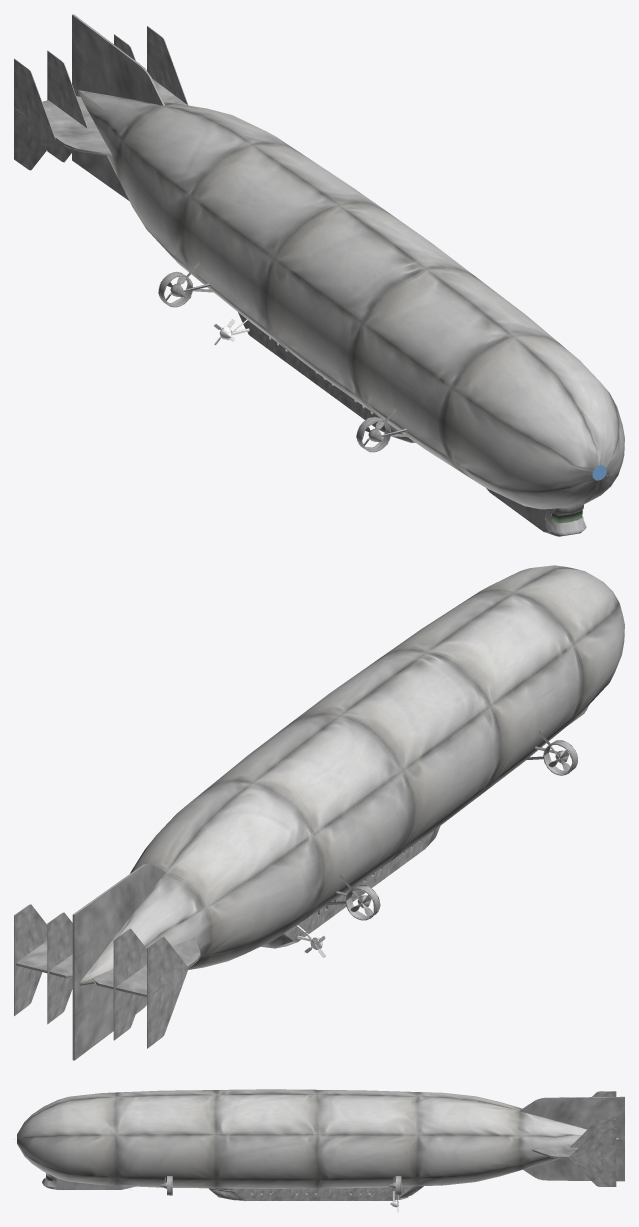
Rendered from airship.glb.
3 views of the same model, one above another, from view 1: azimuth 30°, elevation 25°; view 2: azimuth 150°, elevation 25°; view 3: azimuth 270°, elevation 25° (orthographic). The views are drawn at different scales.
Parts seen in each view (by area): view 1: main_metal_tex_0; view 2: main_metal_tex_0; view 3: main_metal_tex_0.
Boxes of the visible parts, bbox=[...] form: main_metal_tex_0: bbox=[14, 14, 624, 536]; main_metal_tex_0: bbox=[14, 565, 624, 1060]; main_metal_tex_0: bbox=[14, 1089, 624, 1212].
Bounding box in the file's own units: 762 × 631 × 3235.
7 materials, 4 textured.
